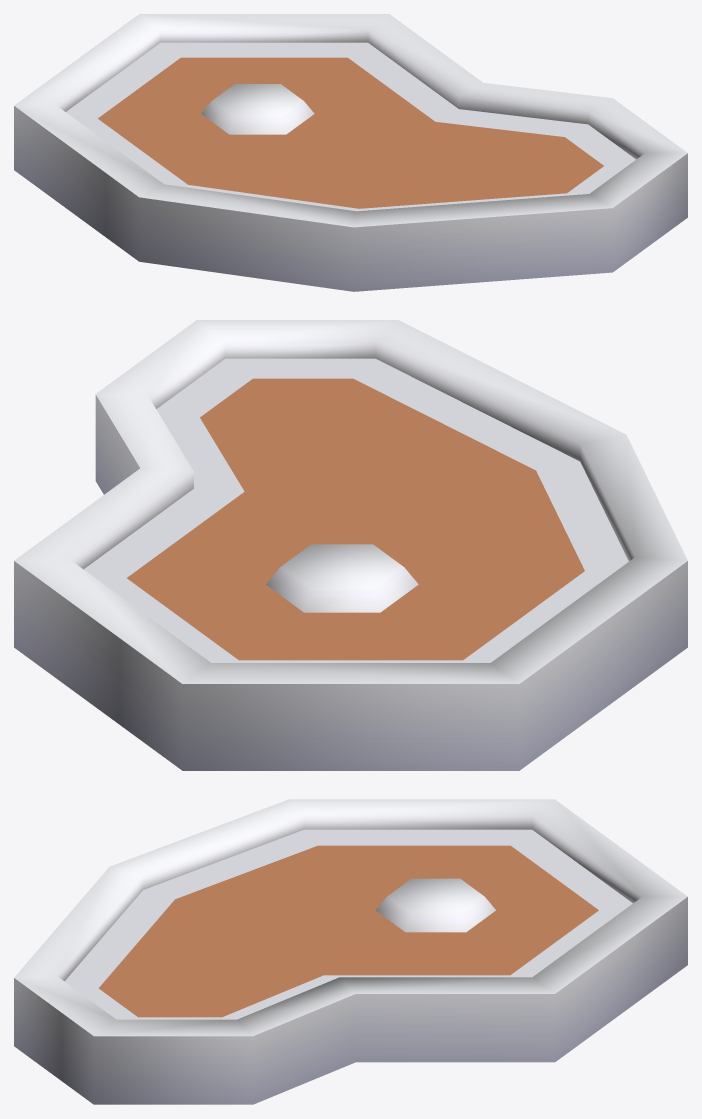
The model's file is meat_raw.glb.
The picture shows the model from 3 angles, top to bottom: view 1: azimuth 30°, elevation 25°; view 2: azimuth 150°, elevation 25°; view 3: azimuth 270°, elevation 25°; orthographic projection. The views are drawn at different scales.
Parts seen in each view (by area): view 1: meat-raw; view 2: meat-raw; view 3: meat-raw.
Boxes of the visible parts, x1,y1,x2,y2 form: meat-raw: (14, 14, 687, 291); meat-raw: (14, 320, 687, 770); meat-raw: (14, 799, 687, 1104).
Size of the model in its own units: 0.2079 by 0.028 by 0.25.
Materials: 1 (1 with a texture image).
